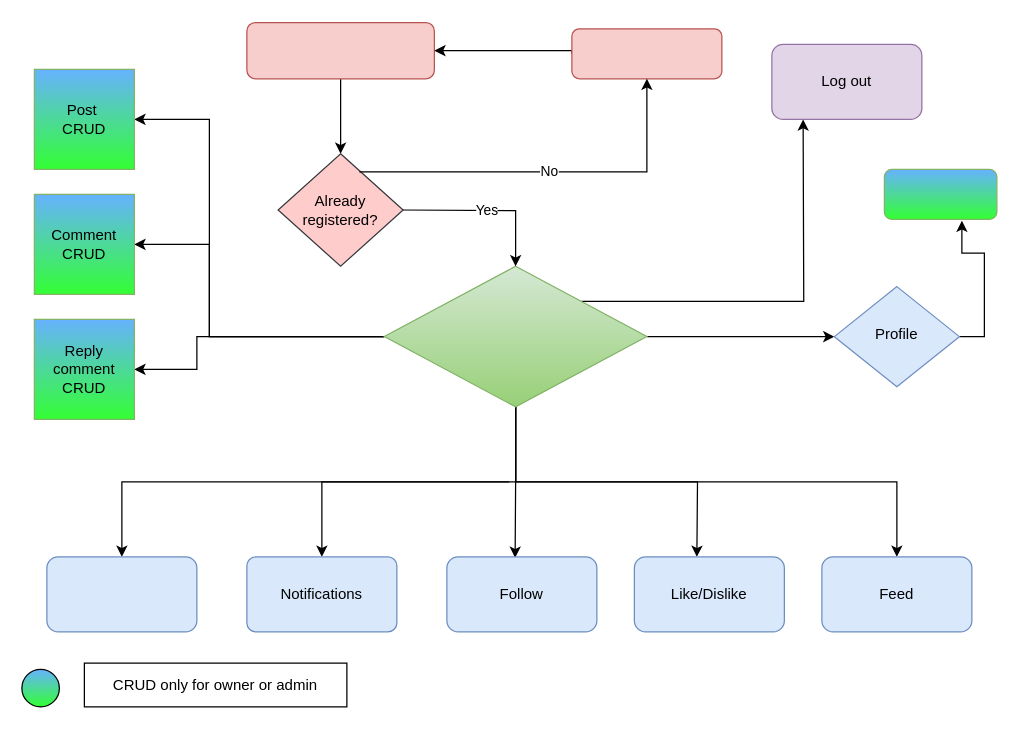
The diagram is 1019 pixels wide and 729 high, and some of its shapes have lost their labels. The centre of each missing label's shape, as x and y in pixels:
"Log in" goes at [515,336].
"Register" goes at [340,50].
"Register first" goes at [646,53].
"Search User" goes at [121,594].
"Update" goes at [940,193].
